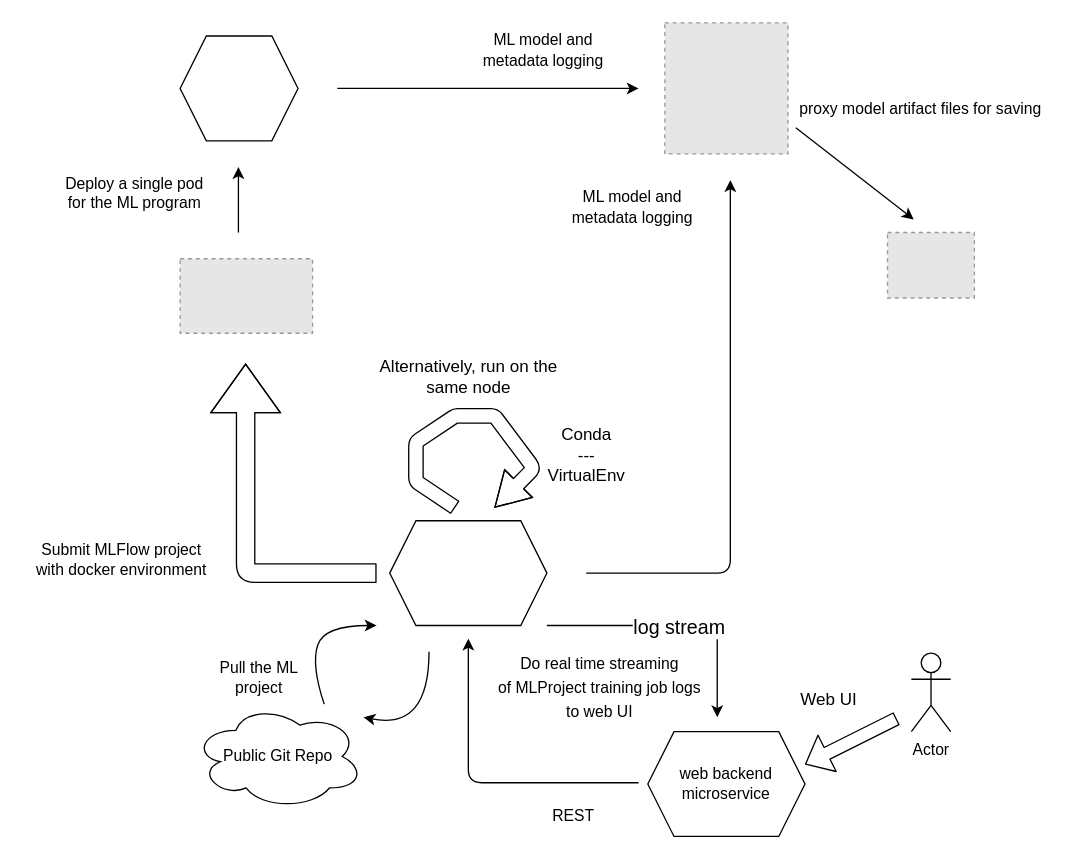
Some shapes in this 1079 by 859 pixel diagram are drawn without their labels. Grey dashed boxes stand in for pictures. The shapes that lost their labels are listed below. From the top down, each one's centre as x and y in pixels, then its label:
At point 238,88: "ML project training pod".
At point 467,572: "launcher microservice".
